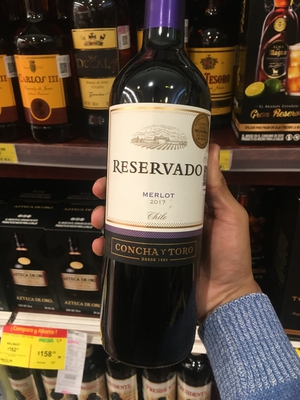reservado merlot: (94, 12, 222, 365)
